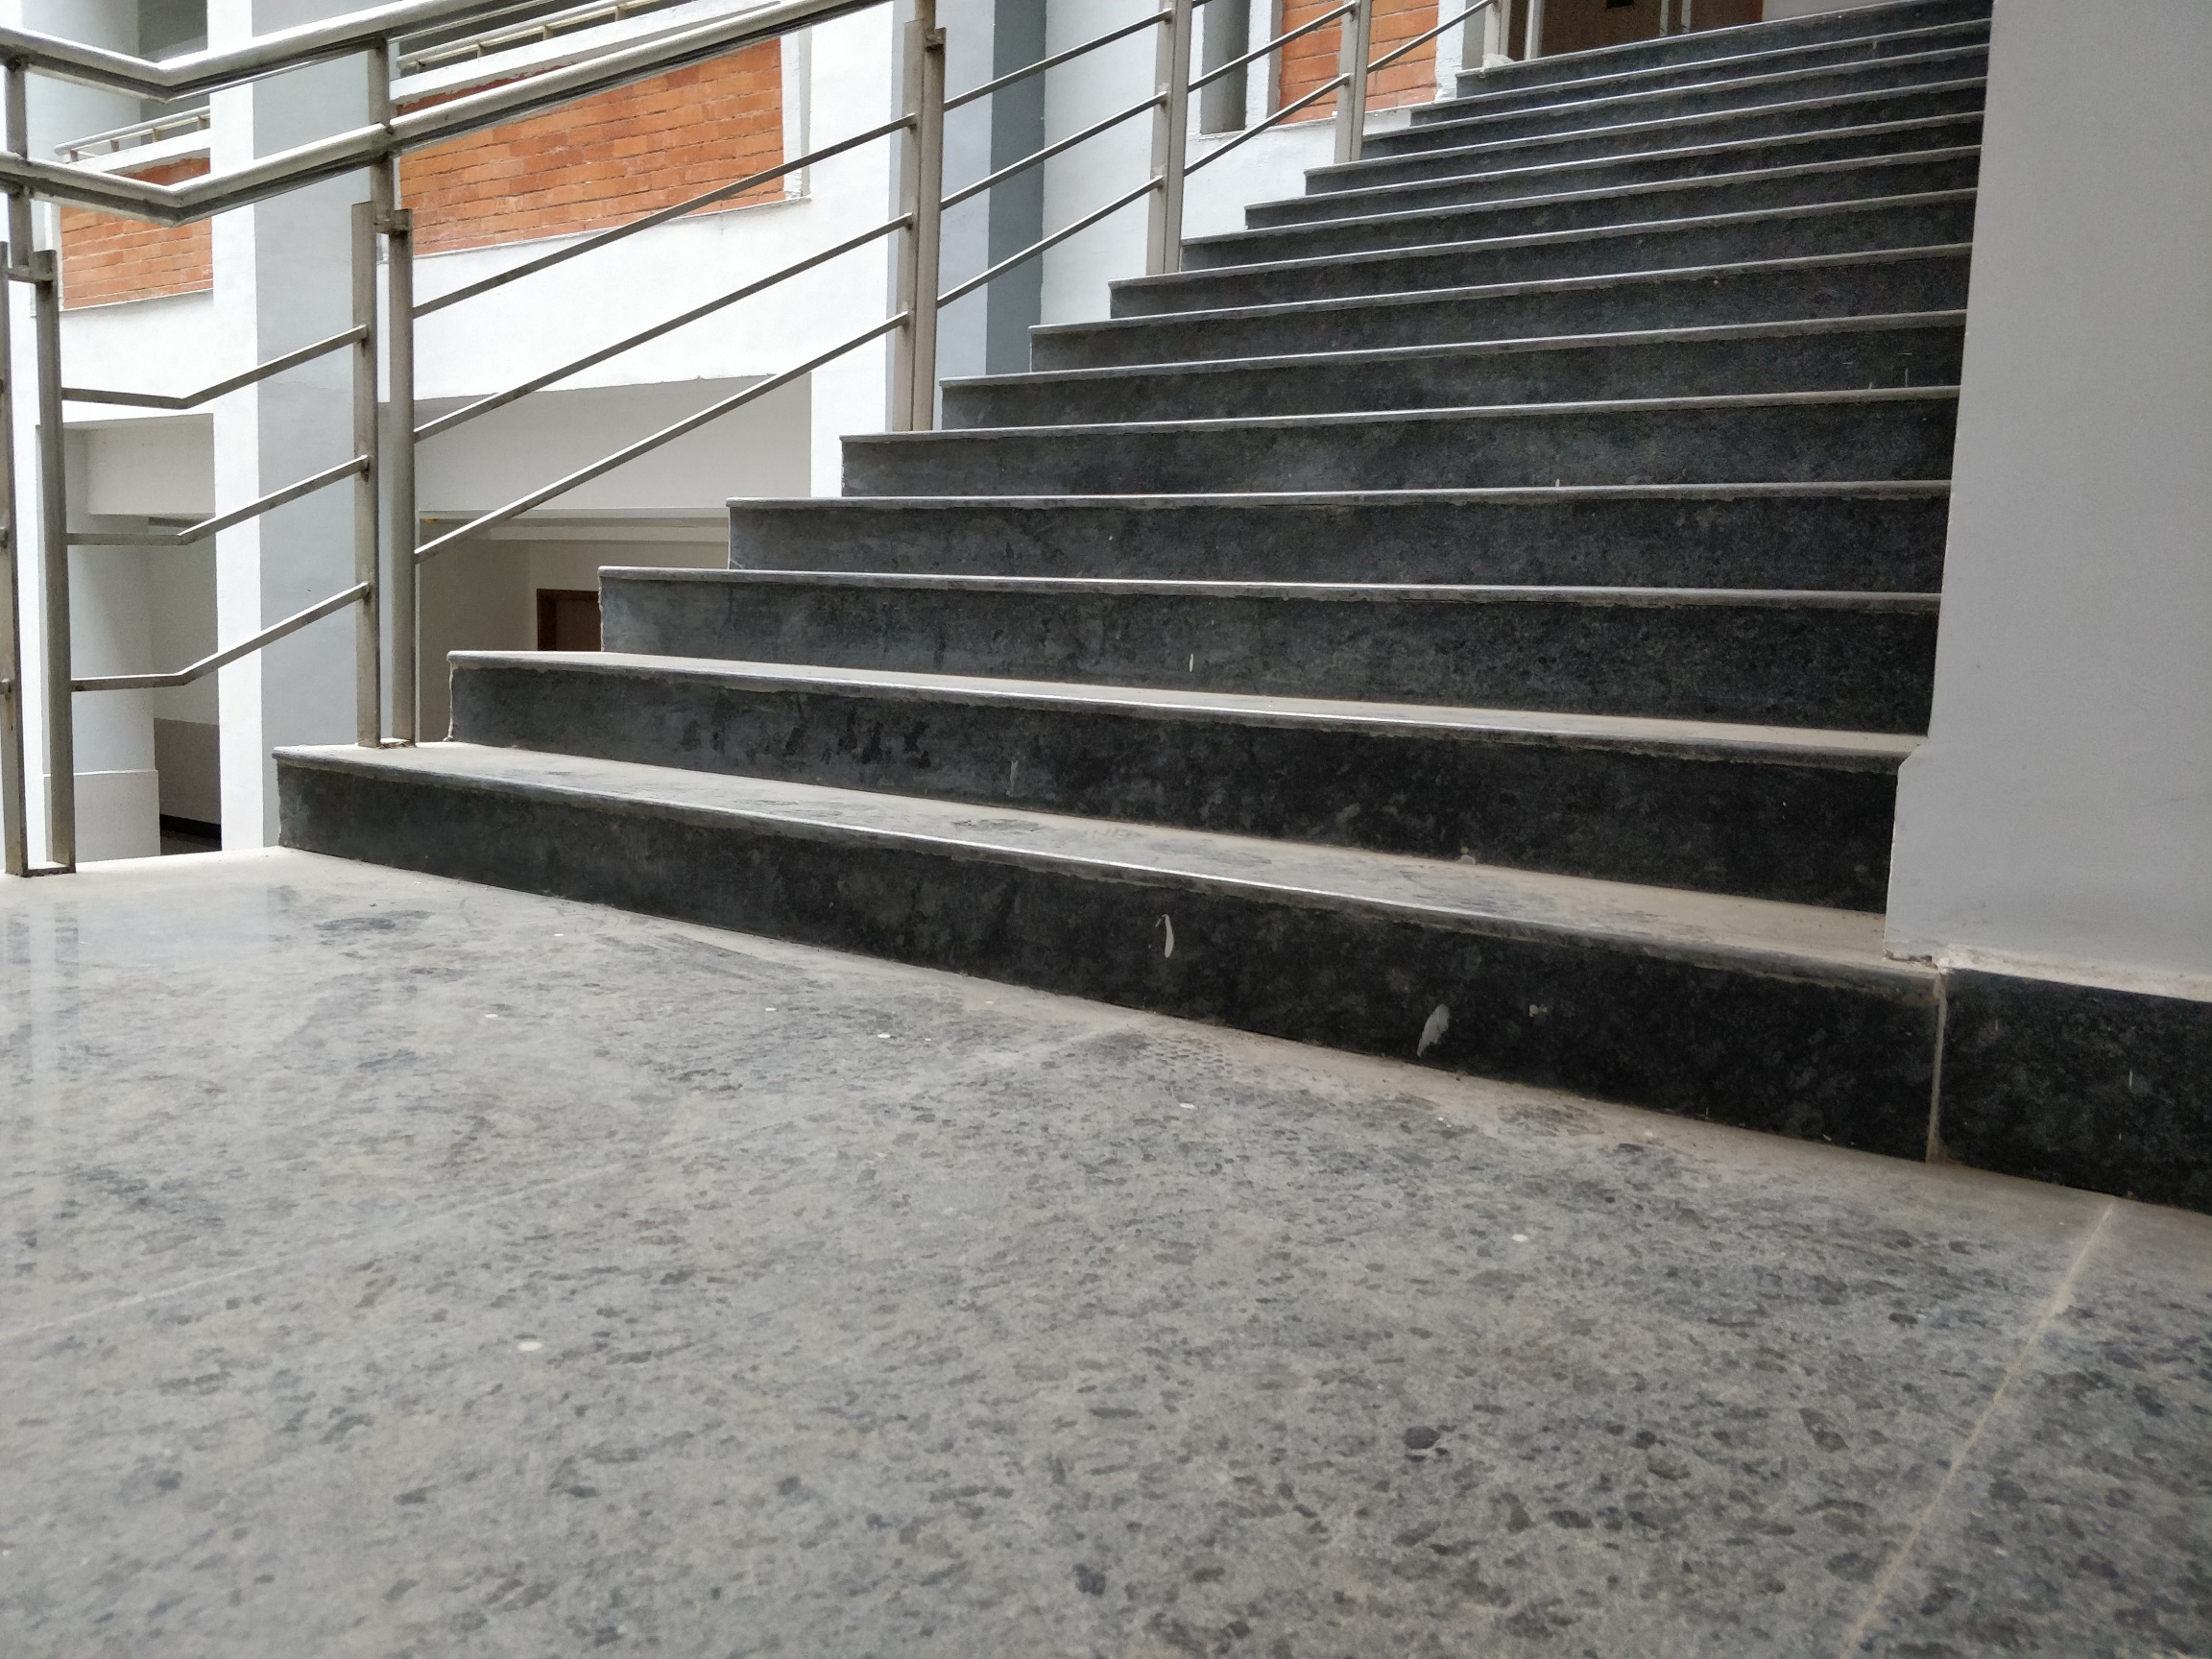stairs_up: (317, 10, 1973, 960)
